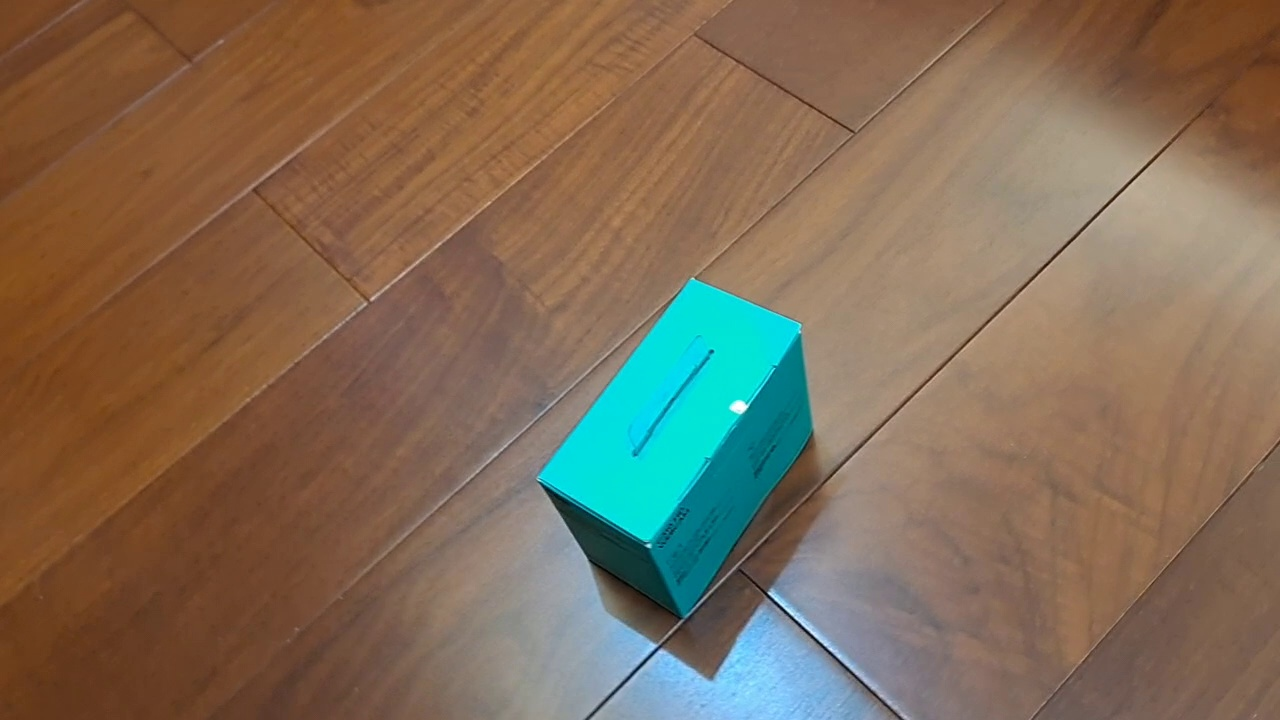webcam: (533, 274, 815, 622)
